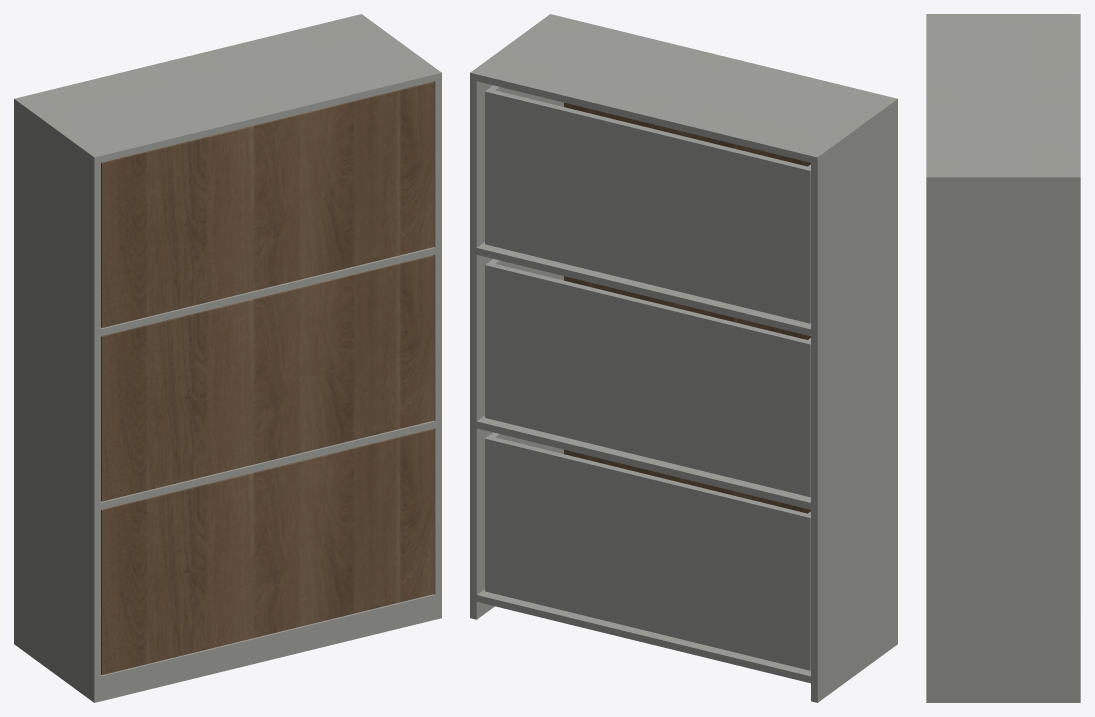
The model's file is meublep.glb.
3 renders of one model, left to right at view 1: azimuth 30°, elevation 25°; view 2: azimuth 150°, elevation 25°; view 3: azimuth 270°, elevation 25°, orthographic. The views are drawn at different scales.
Parts seen in each view (by area): view 1: world; view 2: world; view 3: world.
Boxes of the visible parts, bbox=[...] form: world: bbox=[14, 14, 441, 702]; world: bbox=[470, 14, 897, 702]; world: bbox=[926, 14, 1080, 702].
Bounding box in the file's own units: 1 × 1.5 × 0.4.
Materials: 1 (1 with a texture image).
